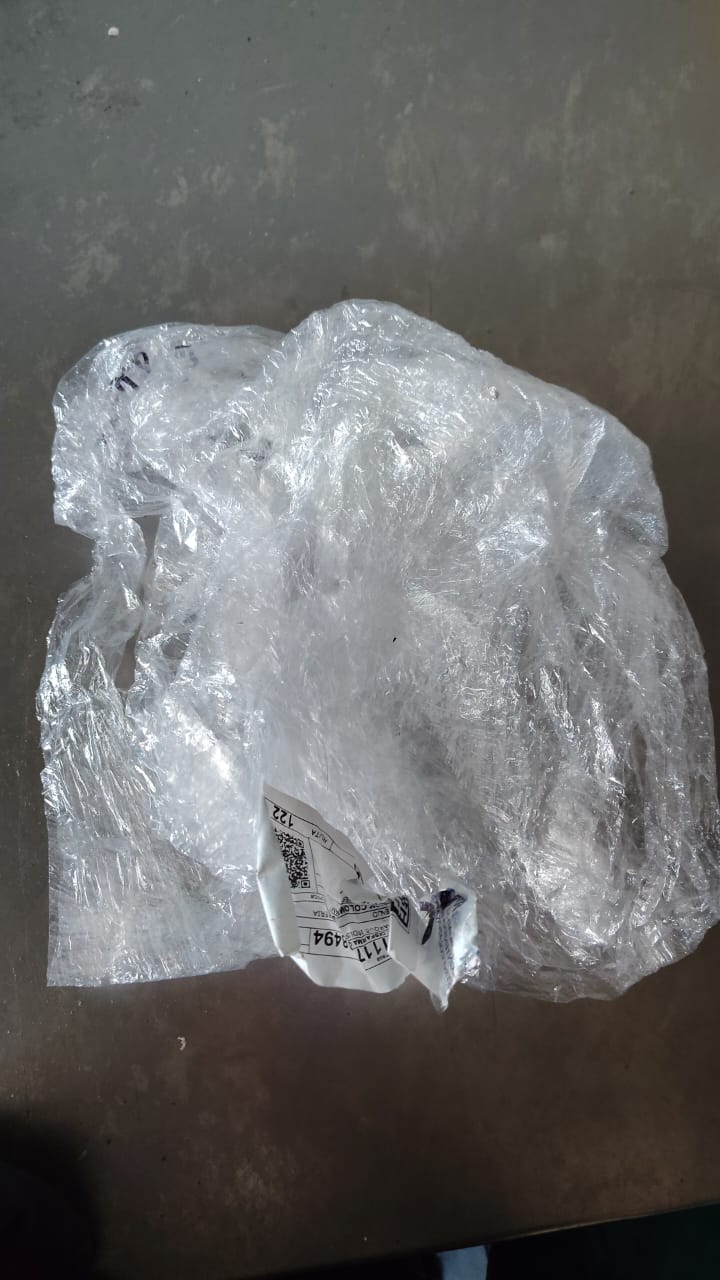Plastico: (37, 302, 720, 1014)
